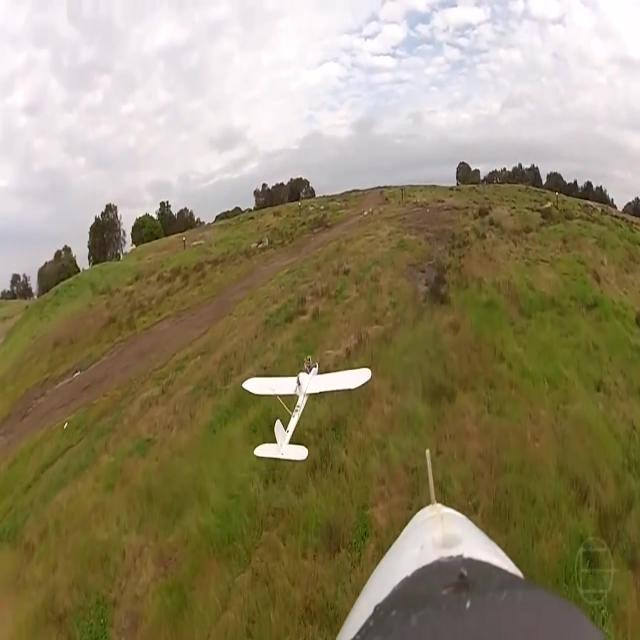iha: (241, 392, 373, 430)
